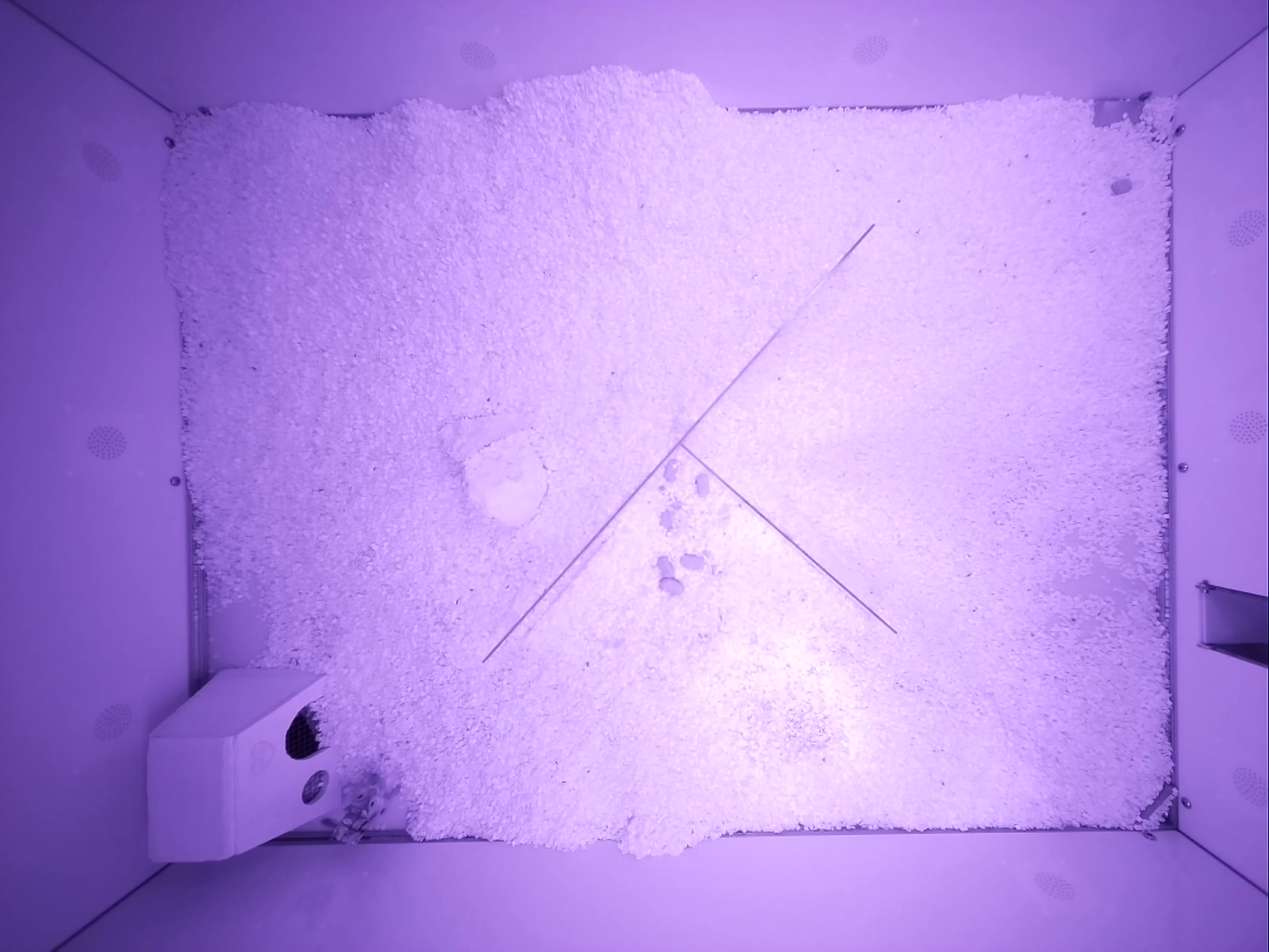adult_back: (332, 760, 400, 844)
